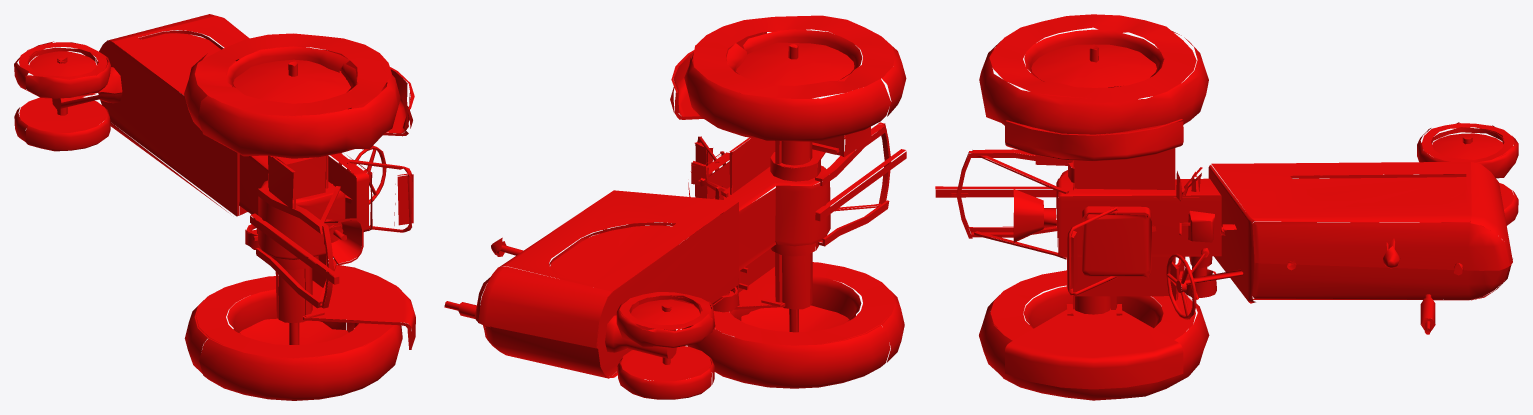
3 renders of one model, left to right at view 1: azimuth 30°, elevation 25°; view 2: azimuth 150°, elevation 25°; view 3: azimuth 270°, elevation 25°, orthographic. The views are drawn at different scales.
Parts seen in each view (by area): view 1: Renderer Node; view 2: Renderer Node; view 3: Renderer Node.
Part boxes in pixels (x1,y1,x2,y2): Renderer Node: (14,14,415,400); Renderer Node: (444,15,906,399); Renderer Node: (935,14,1518,400).
Size of the model in its own units: 1.16 by 1.22 by 2.01.
1 material, 1 textured.
